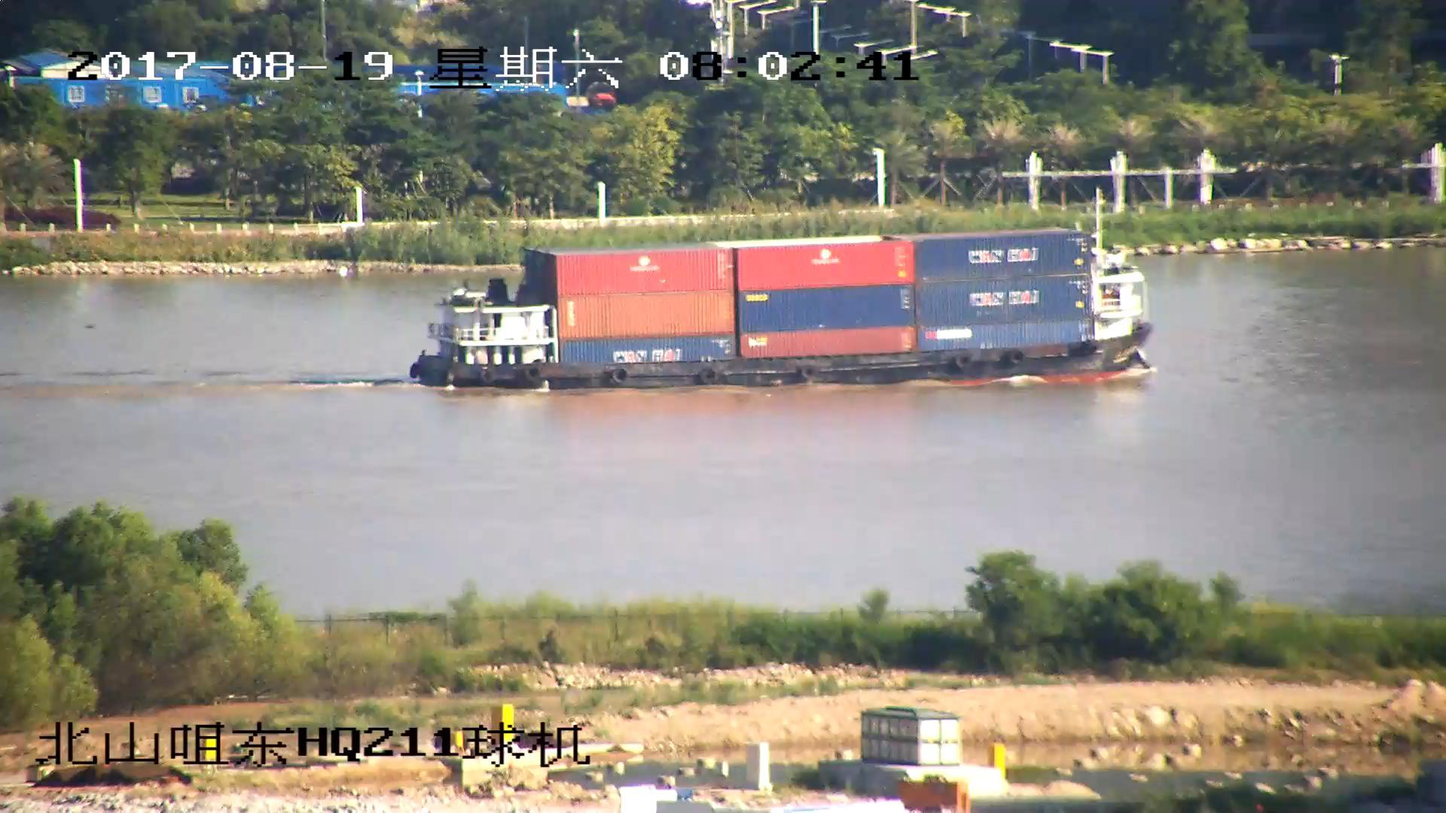container ship: (410, 192, 1148, 392)
